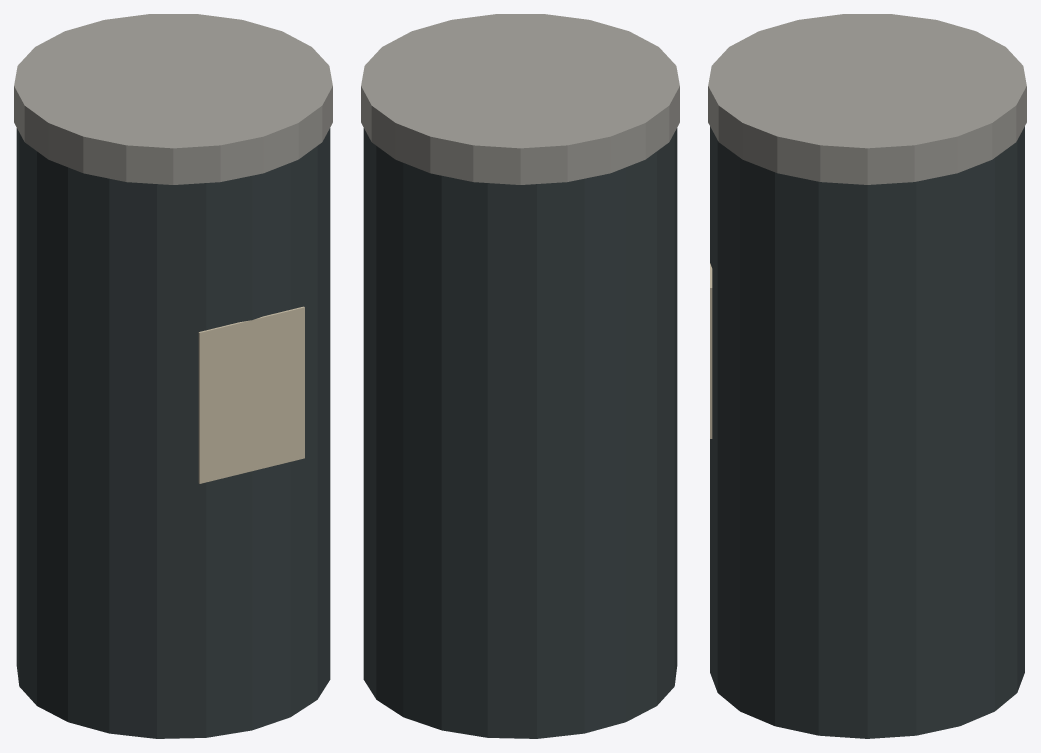
Rendered from coffee-glass-canister.glb.
3 views of the same model, side by side, from view 1: azimuth 30°, elevation 25°; view 2: azimuth 150°, elevation 25°; view 3: azimuth 270°, elevation 25° (orthographic).
Parts seen in each view (by area): view 1: glass, brushed, paper; view 2: glass, brushed; view 3: glass, brushed.
Part boxes in pixels (x1=…): glass: x1=16, y1=128, x2=330, y2=738; brushed: x1=14, y1=14, x2=332, y2=184; paper: x1=198, y1=306, x2=304, y2=483; glass: x1=363, y1=128, x2=677, y2=738; brushed: x1=361, y1=14, x2=679, y2=184; glass: x1=710, y1=126, x2=1024, y2=738; brushed: x1=708, y1=14, x2=1026, y2=184.
Size of the model in its own units: 0.1412 by 0.29 by 0.1416.
